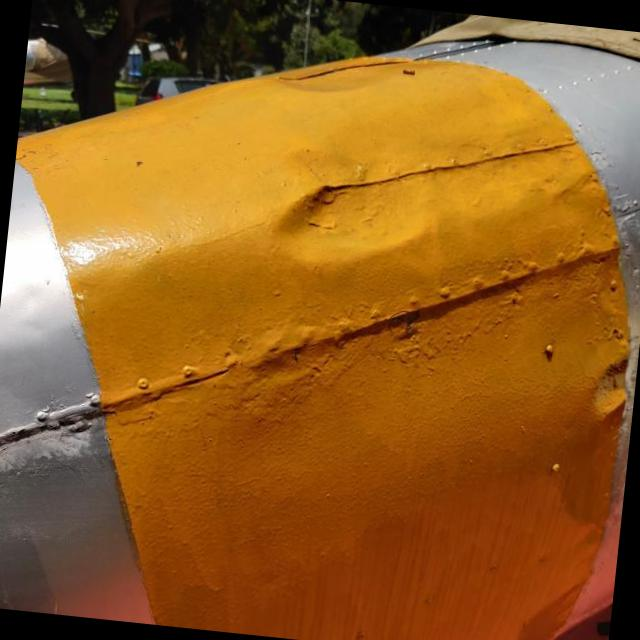Dent: (267, 167, 432, 298)
